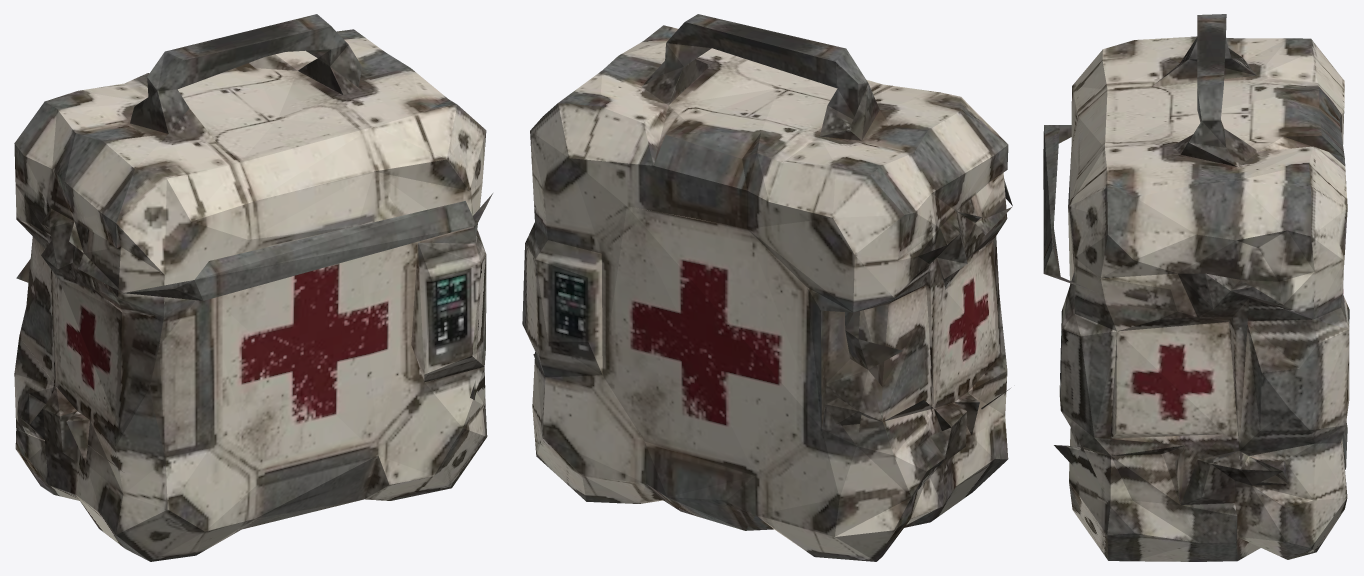
Rendered from decor.scrap_heap.glb.
3 views of the same model, side by side, from view 1: azimuth 30°, elevation 25°; view 2: azimuth 150°, elevation 25°; view 3: azimuth 270°, elevation 25° (orthographic). The views are drawn at different scales.
Parts seen in each view (by area): view 1: body; view 2: body; view 3: body.
Boxes of the visible parts, x1,y1,x2,y2 form: body: (14,14,492,561); body: (522,14,1012,561); body: (1043,14,1349,561).
Size of the model in its own units: 1.4 by 1.53 by 0.9543.
Materials: 1 (1 with a texture image).
